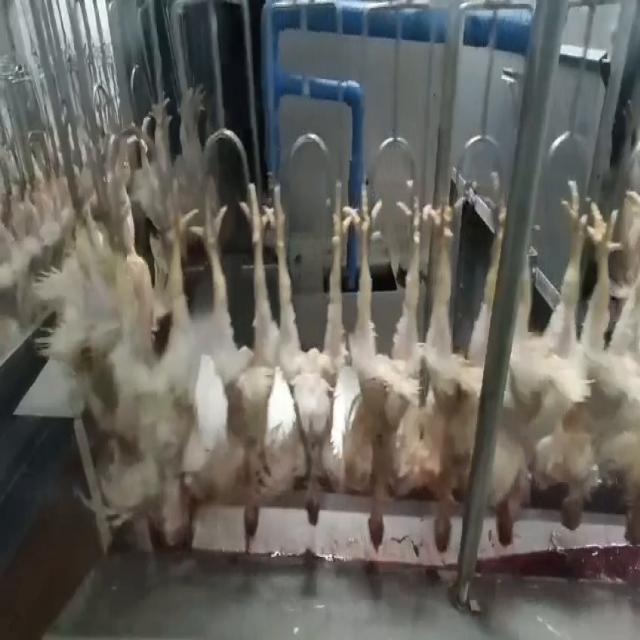chicken: (498, 185, 610, 555), (332, 186, 439, 559), (411, 185, 500, 556), (260, 183, 352, 527), (187, 177, 271, 541), (126, 204, 210, 550), (592, 192, 640, 548)
